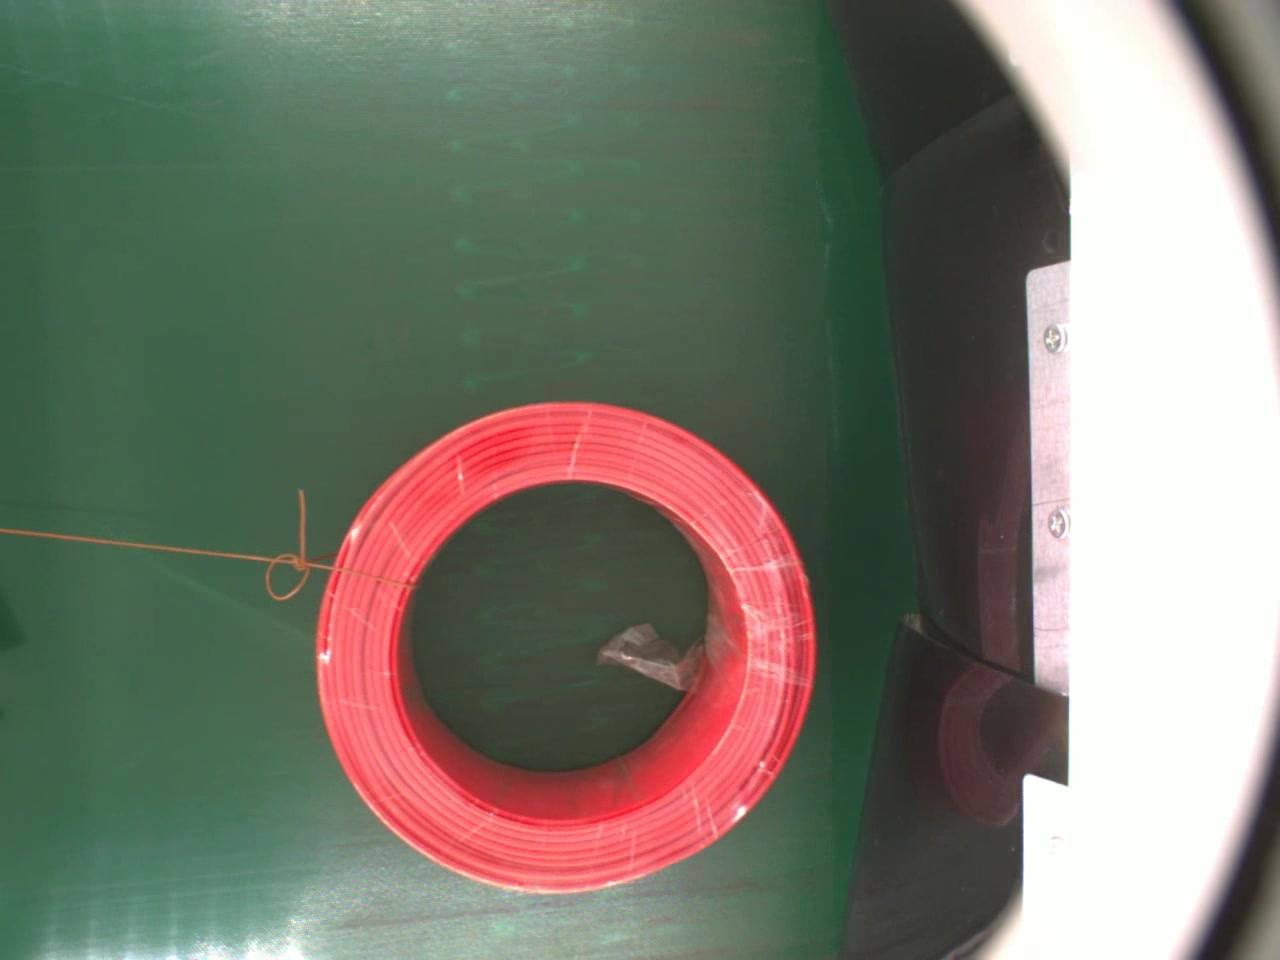red: (301, 389, 849, 899)
